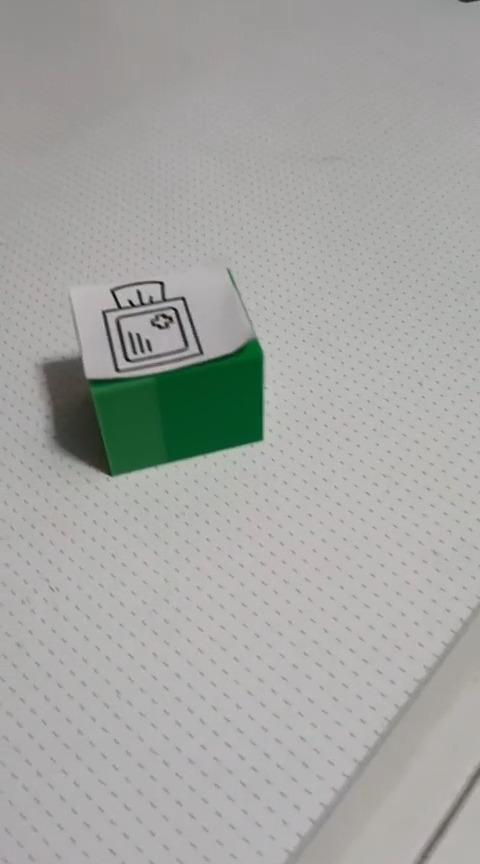Gauze: (66, 263, 265, 477)
